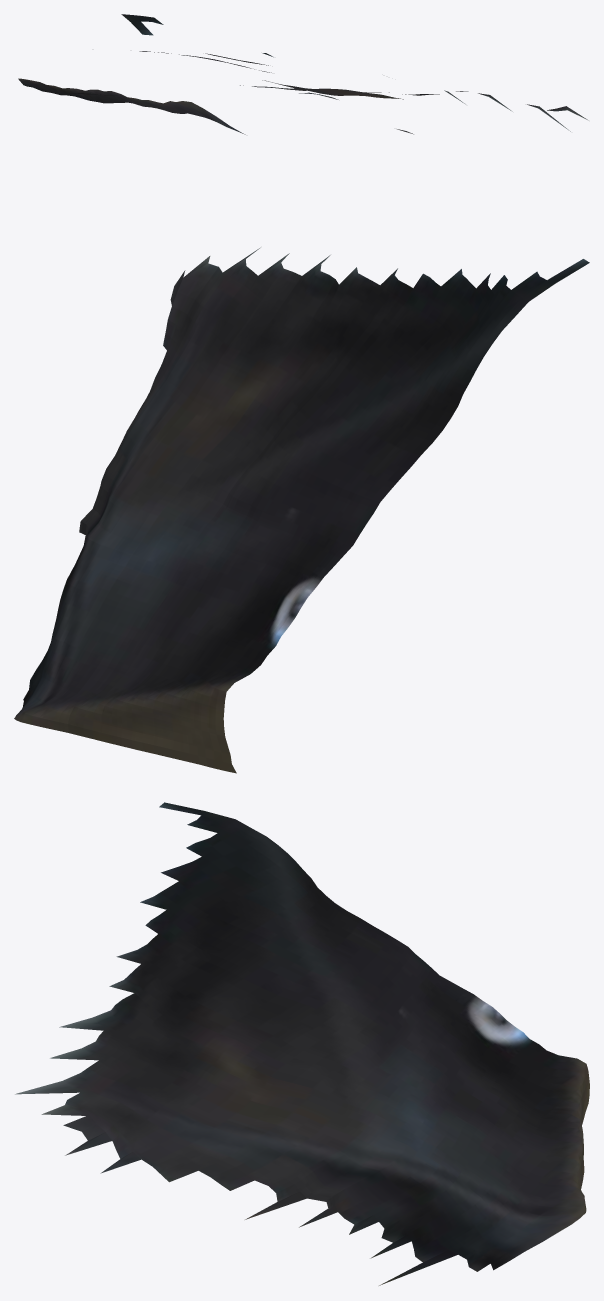
The model's file is observed-surface.glb.
3 views of the same model, one above another, from view 1: azimuth 30°, elevation 25°; view 2: azimuth 150°, elevation 25°; view 3: azimuth 270°, elevation 25° (orthographic). The views are drawn at different scales.
Parts seen in each view (by area): view 1: geometry_0; view 2: geometry_0; view 3: geometry_0.
Boxes of the visible parts, x1,y1,x2,y2 form: geometry_0: (18,14,588,134); geometry_0: (14,247,589,773); geometry_0: (15,802,589,1285).
Bounding box in the file's own units: 0.5665 × 0.4686 × 0.7383.
Materials: 1 (1 with a texture image).
